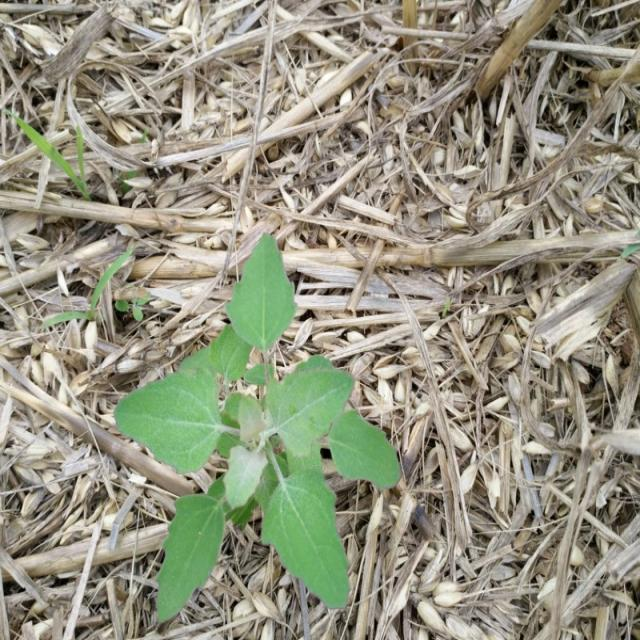ca: (116, 235, 404, 629)
